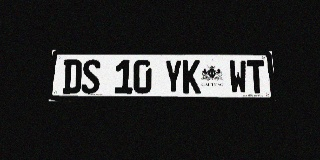0: (133, 60, 151, 94)
1: (114, 60, 133, 94)
D: (62, 59, 82, 94)
K: (182, 60, 201, 94)
S: (81, 59, 101, 94)
T: (247, 60, 266, 94)
W: (229, 60, 248, 94)
Y: (164, 60, 182, 94)
